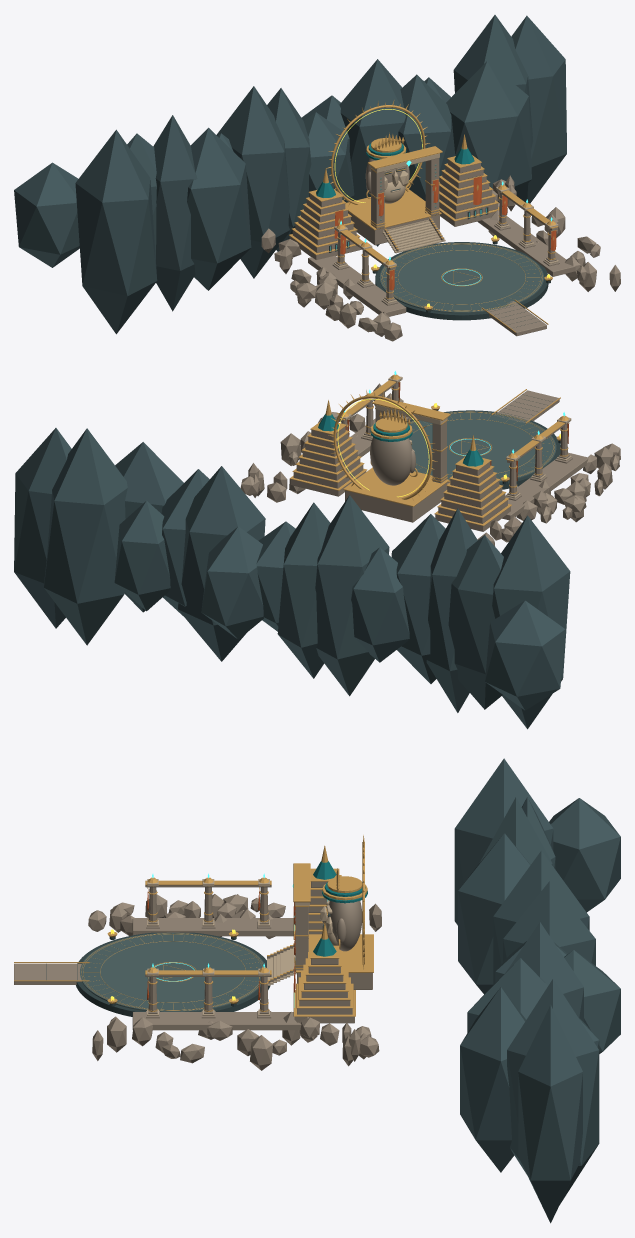
File: temple.glb
3 renders of one model, top to bottom at view 1: azimuth 30°, elevation 25°; view 2: azimuth 150°, elevation 25°; view 3: azimuth 270°, elevation 25°, orthographic. The views are drawn at different scales.
Parts seen in each view (by area): view 1: temple__Distant_rock, temple__Sandstone, temple__Bronze, temple__Arena, temple__Sandstone.001, temple__Obsidian, temple__Cloth, temple__Enamel; view 2: temple__Distant_rock, temple__Sandstone, temple__Bronze, temple__Arena, temple__Enamel, temple__Sandstone.001, temple__Obsidian; view 3: temple__Distant_rock, temple__Sandstone, temple__Arena, temple__Bronze, temple__Sandstone.001, temple__Obsidian, temple__Enamel.
Boxes of the visible parts, x1=… form: temple__Distant_rock: x1=14, y1=15, x2=566, y2=334; temple__Sandstone: x1=261, y1=158, x2=620, y2=341; temple__Bronze: x1=289, y1=100, x2=558, y2=332; temple__Arena: x1=379, y1=243, x2=543, y2=313; temple__Sandstone.001: x1=334, y1=153, x2=558, y2=303; temple__Obsidian: x1=329, y1=168, x2=550, y2=327; temple__Cloth: x1=334, y1=176, x2=556, y2=290; temple__Enamel: x1=316, y1=143, x2=474, y2=197; temple__Distant_rock: x1=14, y1=428, x2=570, y2=729; temple__Sandstone: x1=240, y1=380, x2=620, y2=545; temple__Bronze: x1=289, y1=374, x2=569, y2=526; temple__Arena: x1=409, y1=411, x2=556, y2=482; temple__Enamel: x1=318, y1=414, x2=483, y2=466; temple__Sandstone.001: x1=337, y1=376, x2=571, y2=498; temple__Obsidian: x1=407, y1=394, x2=560, y2=489; temple__Distant_rock: x1=454, y1=758, x2=620, y2=1223; temple__Sandstone: x1=14, y1=881, x2=381, y2=1070; temple__Arena: x1=80, y1=932, x2=265, y2=1011; temple__Bronze: x1=14, y1=835, x2=373, y2=1016; temple__Sandstone.001: x1=147, y1=879, x2=337, y2=1015; temple__Obsidian: x1=46, y1=913, x2=330, y2=1016; temple__Enamel: x1=313, y1=861, x2=367, y2=956.
Bounding box in the file's own units: 139 × 57.58 × 120.
